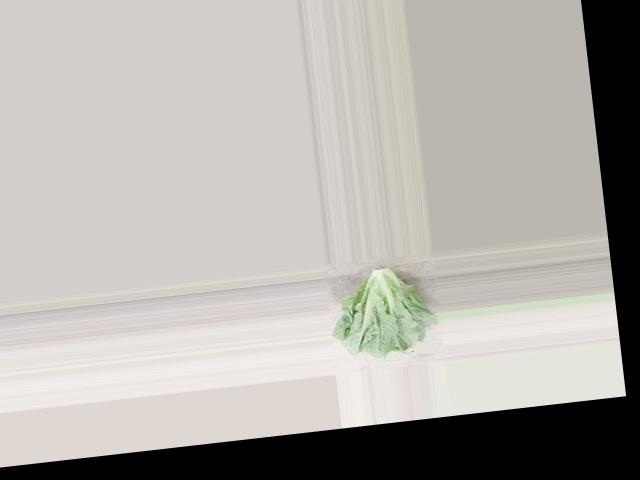lettuce: (328, 255, 441, 365)
